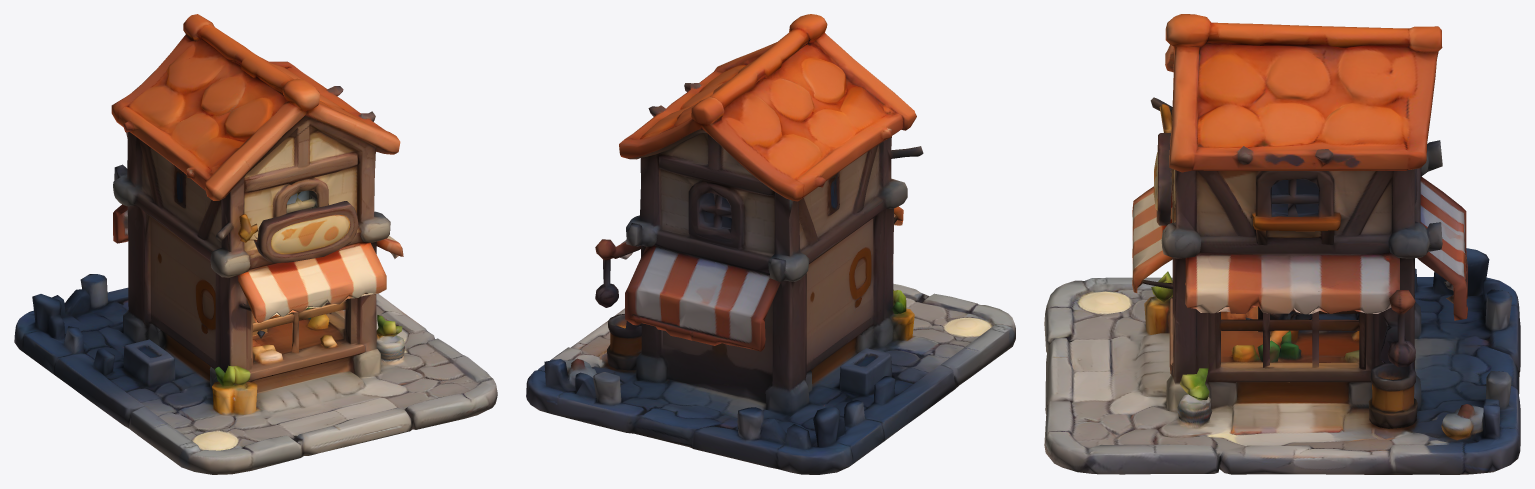
Rendered from baeckerei.glb.
3 views of the same model, side by side, from view 1: azimuth 30°, elevation 25°; view 2: azimuth 150°, elevation 25°; view 3: azimuth 270°, elevation 25° (orthographic). The views are drawn at different scales.
Visible parts, largest first — view 1: tripo_node_a4209015-4c4c-46fa-8007-bb3f5e51777f; view 2: tripo_node_a4209015-4c4c-46fa-8007-bb3f5e51777f; view 3: tripo_node_a4209015-4c4c-46fa-8007-bb3f5e51777f.
Part boxes in pixels (x1=…): tripo_node_a4209015-4c4c-46fa-8007-bb3f5e51777f: x1=14, y1=14, x2=497, y2=474; tripo_node_a4209015-4c4c-46fa-8007-bb3f5e51777f: x1=526, y1=14, x2=1015, y2=474; tripo_node_a4209015-4c4c-46fa-8007-bb3f5e51777f: x1=1044, y1=14, x2=1520, y2=474.
Size of the model in its own units: 0.8948 by 0.8629 by 1.
Materials: 1 (1 with a texture image).
